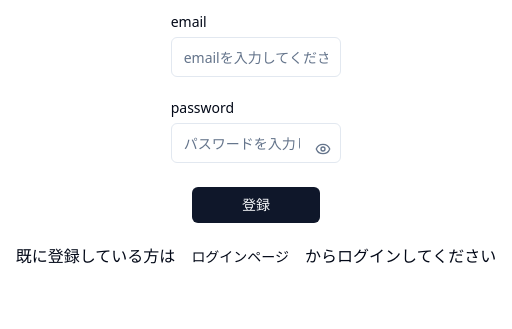
Test case: RegisterPage › 無効なメールアドレスの場合、エラーメッセージが表示される
The image size is (512, 329).
無効なメールアドレスを入力
Type "invalid-email" into the field labelled "email" at x=256, y=57, box 171,37 -> 341,77
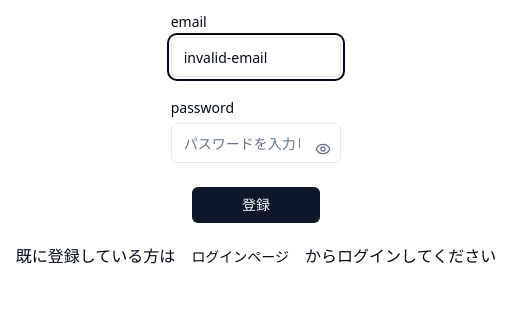
Type "password123" into the password field labelled "password" at x=256, y=143, box 171,123 -> 341,163
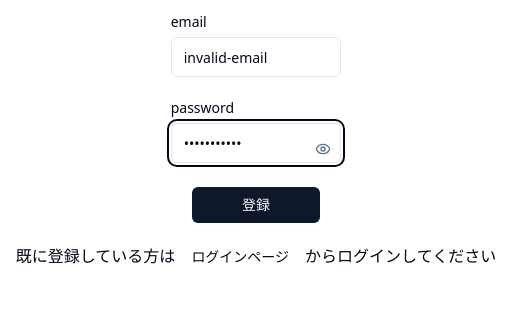
Click the button "登録" at x=256, y=205, box 192,187 -> 320,223
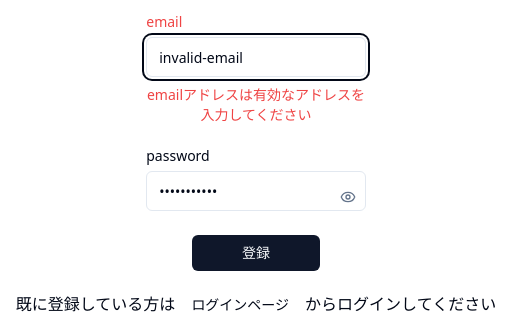
Result: the text "emailアドレスは有効なアドレスを入力してください" is shown at 146,85 -> 366,125
